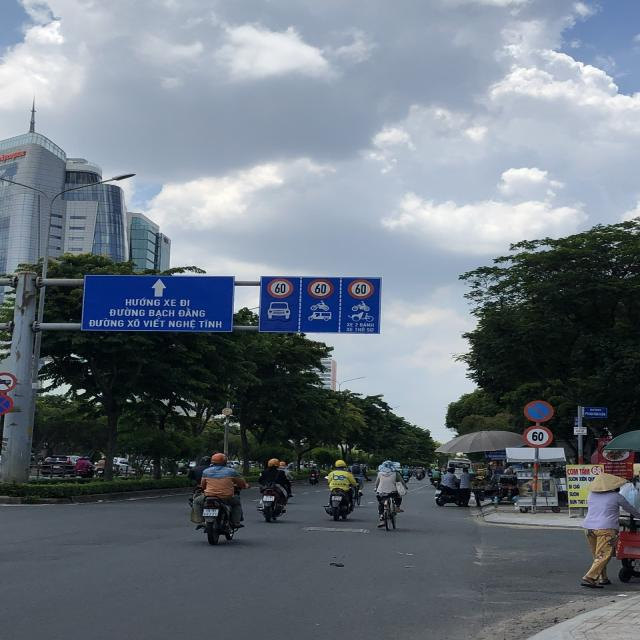Bien bao cam do xe: (522, 400, 556, 423)
Bien bao toc do toi da cho phep: (521, 422, 554, 450), (345, 278, 378, 301), (265, 276, 295, 300), (307, 278, 335, 300)
